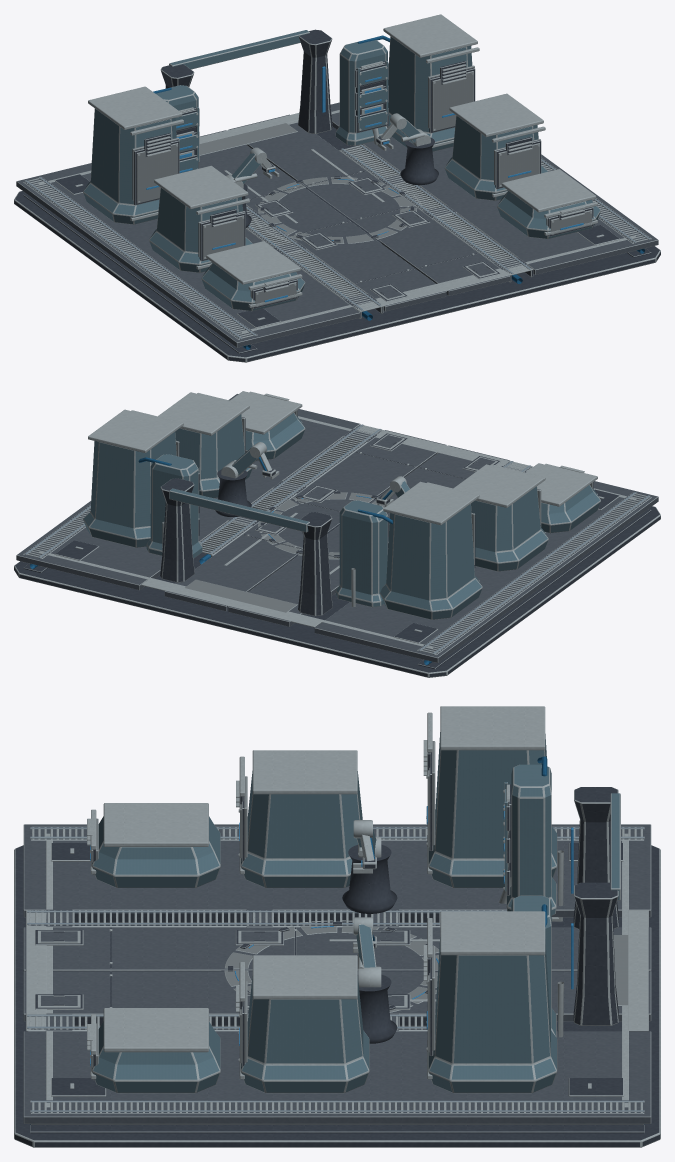
Rendered from RepairHub.fbx.
3 views of the same model, one above another, from view 1: azimuth 30°, elevation 25°; view 2: azimuth 150°, elevation 25°; view 3: azimuth 270°, elevation 25° (orthographic). The views are drawn at different scales.
Parts seen in each view (by area): view 1: CH_RepairHub_refined_floor_0_0, CH_RepairHub_refined_floor_-1_0, CH_RepairHub_foundation_0_0, CH_RepairHub_maintenance_bays_0_1, CH_RepairHub_maintenance_bays_-1_1, CH_RepairHub_maintenance_bays_0_-1, CH_RepairHub_maintenance_bays_-1_-1, CH_RepairHub_exit_frame_0_2, CH_RepairHub_maintenance_bays_0_-2, CH_RepairHub_maintenance_bays_-1_-2, CH_RepairHub_floor_-2_0, CH_RepairHub_refined_floor_0_-1 (+28 smaller); view 2: CH_RepairHub_refined_floor_0_0, CH_RepairHub_maintenance_bays_-1_1, CH_RepairHub_refined_floor_-1_0, CH_RepairHub_foundation_0_0, CH_RepairHub_maintenance_bays_0_1, CH_RepairHub_maintenance_bays_-1_-1, CH_RepairHub_maintenance_bays_0_-1, CH_RepairHub_exit_frame_0_2, CH_RepairHub_floor_-2_0, CH_RepairHub_maintenance_bays_-1_-2, CH_RepairHub_maintenance_bays_0_-2, CH_RepairHub_refined_floor_0_-1 (+19 smaller); view 3: CH_RepairHub_refined_floor_0_0, CH_RepairHub_refined_floor_-1_0, CH_RepairHub_maintenance_bays_0_1, CH_RepairHub_maintenance_bays_-1_1, CH_RepairHub_foundation_0_0, CH_RepairHub_maintenance_bays_0_-1, CH_RepairHub_maintenance_bays_-1_-1, CH_RepairHub_floor_1_0, CH_RepairHub_maintenance_bays_0_-2, CH_RepairHub_maintenance_bays_-1_-2, CH_RepairHub_exit_frame_0_2, CH_RepairHub_refined_floor_-1_-1 (+21 smaller).
Boxes of the visible parts, x1,y1,x2,y2 form: CH_RepairHub_refined_floor_0_0: (228, 102, 658, 295); CH_RepairHub_refined_floor_-1_0: (16, 130, 446, 347); CH_RepairHub_foundation_0_0: (14, 127, 660, 362); CH_RepairHub_maintenance_bays_0_1: (335, 14, 477, 151); CH_RepairHub_maintenance_bays_-1_1: (83, 85, 199, 224); CH_RepairHub_maintenance_bays_0_-1: (444, 93, 547, 200); CH_RepairHub_maintenance_bays_-1_-1: (149, 165, 252, 272); CH_RepairHub_exit_frame_0_2: (169, 29, 332, 133); CH_RepairHub_maintenance_bays_0_-2: (497, 169, 600, 238); CH_RepairHub_maintenance_bays_-1_-2: (201, 241, 305, 311); CH_RepairHub_floor_-2_0: (23, 177, 257, 353); CH_RepairHub_refined_floor_0_-1: (339, 144, 533, 283); CH_RepairHub_refined_floor_0_0: (16, 394, 446, 611); CH_RepairHub_maintenance_bays_-1_1: (335, 481, 482, 619); CH_RepairHub_refined_floor_-1_0: (228, 445, 658, 662); CH_RepairHub_foundation_0_0: (14, 440, 660, 677); CH_RepairHub_maintenance_bays_0_1: (83, 409, 202, 558); CH_RepairHub_maintenance_bays_-1_-1: (453, 464, 548, 571); CH_RepairHub_maintenance_bays_0_-1: (158, 392, 252, 498); CH_RepairHub_exit_frame_0_2: (160, 478, 309, 582); CH_RepairHub_floor_-2_0: (417, 492, 651, 669); CH_RepairHub_maintenance_bays_-1_-2: (526, 463, 600, 533); CH_RepairHub_maintenance_bays_0_-2: (230, 391, 305, 460); CH_RepairHub_refined_floor_0_-1: (199, 424, 381, 564); CH_RepairHub_refined_floor_0_0: (23, 971, 651, 1123); CH_RepairHub_refined_floor_-1_0: (23, 824, 651, 971); CH_RepairHub_maintenance_bays_0_1: (428, 895, 563, 1093); CH_RepairHub_maintenance_bays_-1_1: (428, 706, 563, 921); CH_RepairHub_foundation_0_0: (14, 845, 660, 1147); CH_RepairHub_maintenance_bays_0_-1: (240, 955, 369, 1093); CH_RepairHub_maintenance_bays_-1_-1: (240, 750, 362, 887); CH_RepairHub_floor_1_0: (30, 1100, 644, 1133); CH_RepairHub_maintenance_bays_0_-2: (92, 1008, 220, 1093); CH_RepairHub_maintenance_bays_-1_-2: (92, 803, 220, 887); CH_RepairHub_exit_frame_0_2: (573, 793, 620, 1025); CH_RepairHub_refined_floor_-1_-1: (27, 909, 506, 955).
Bounding box in the file's own units: 22 × 5.78 × 20.
